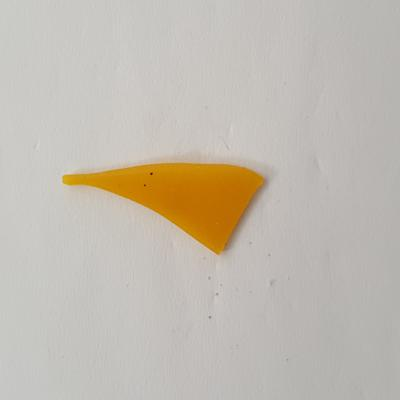plastic: (58, 154, 271, 267)
